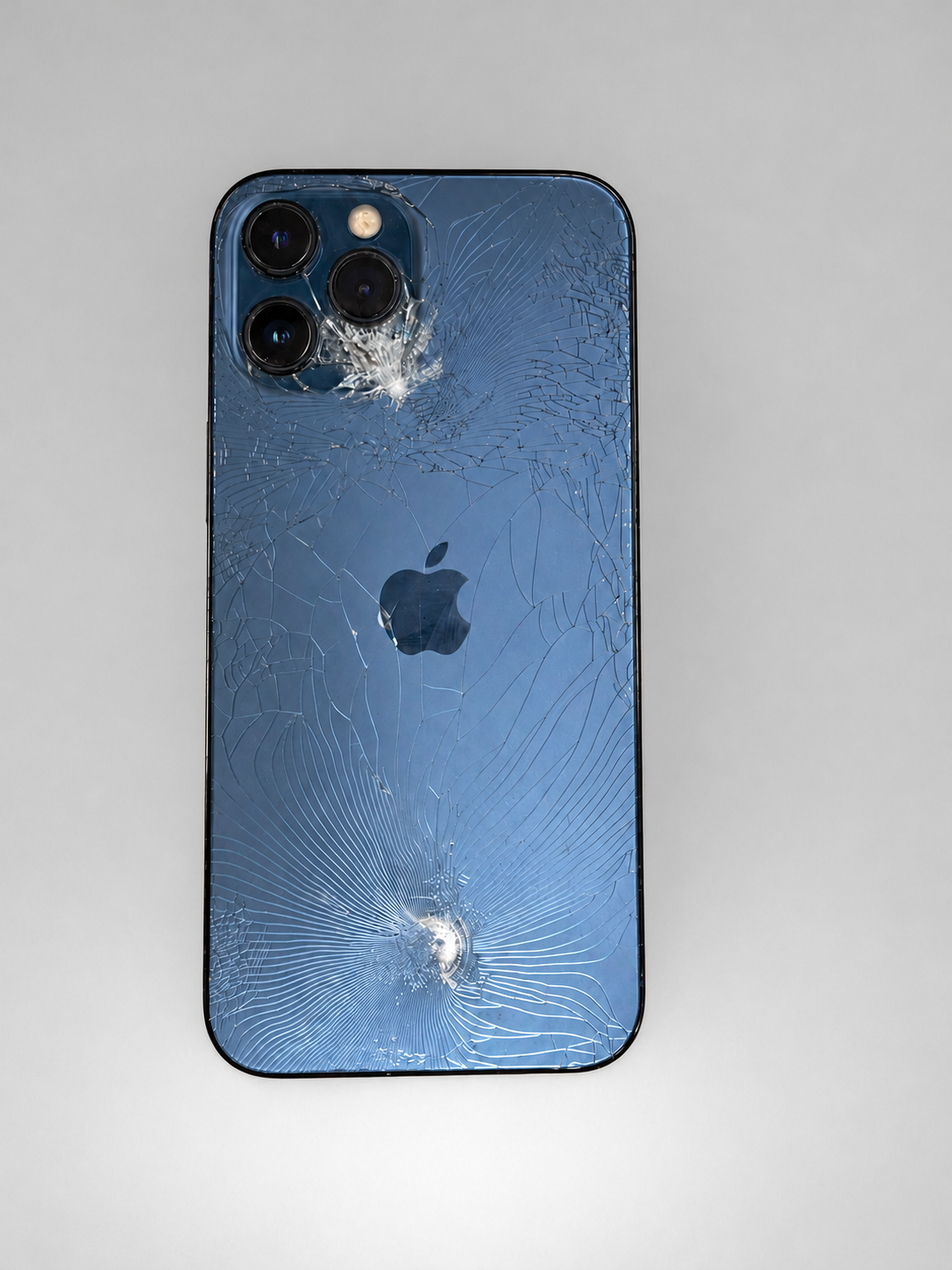iphone_12_pro_max_Crack: (167, 119, 691, 1091)
